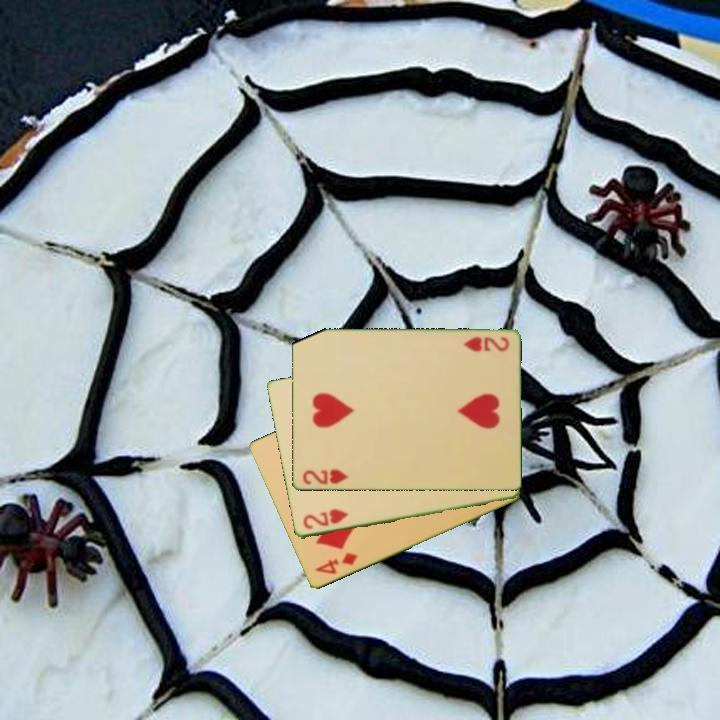2h: (299, 506, 351, 532), (299, 466, 351, 488), (459, 334, 511, 354)
4d: (312, 549, 360, 578)
